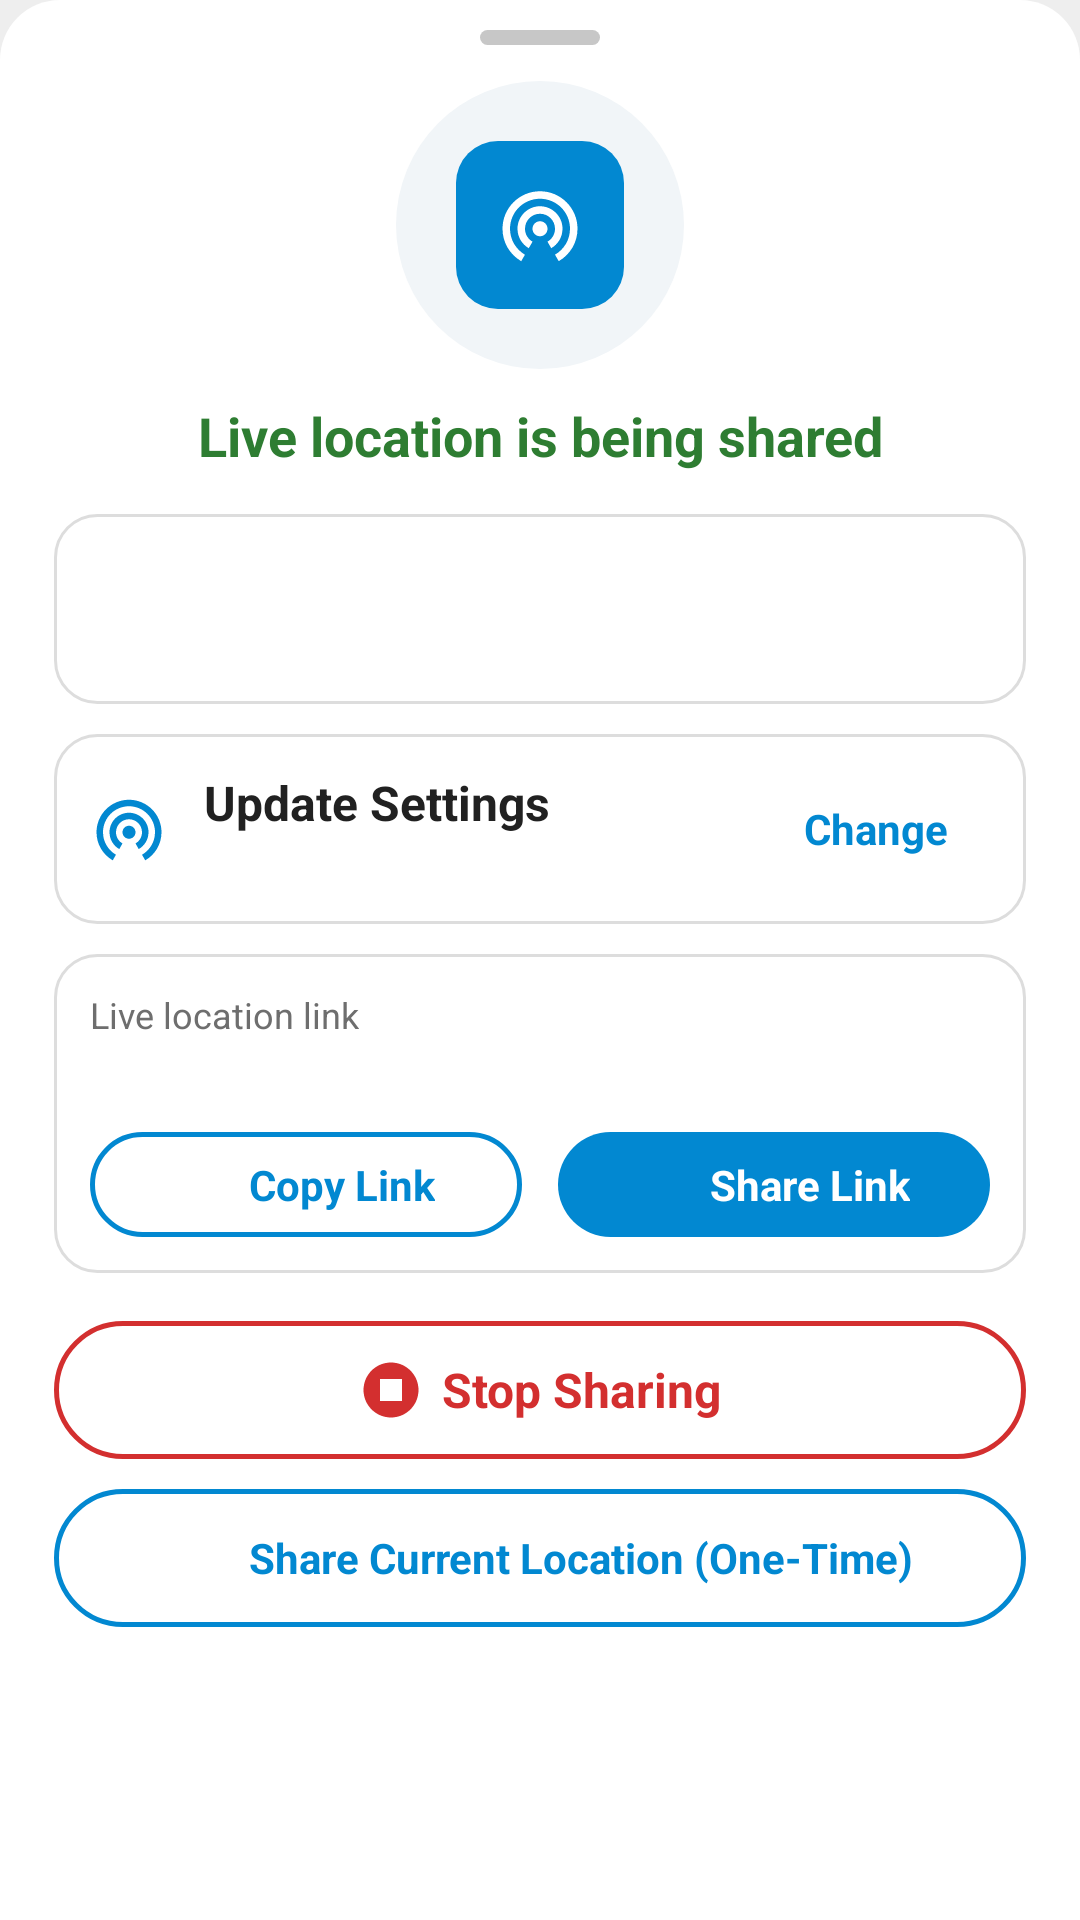

Named icons in this screenshot (1080 x 1920) and their bounding boxes, (x1, y1, x2, y2):
broadcast: (502, 191, 578, 261), (96, 799, 162, 861)
